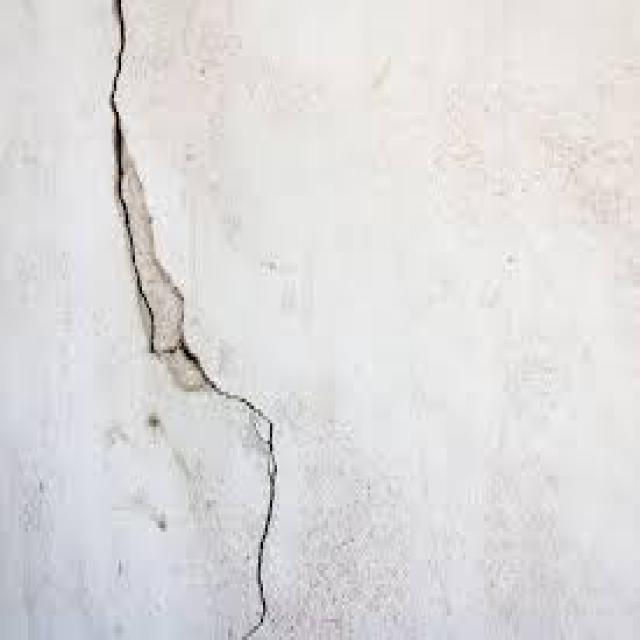Crack: (103, 0, 274, 637)
